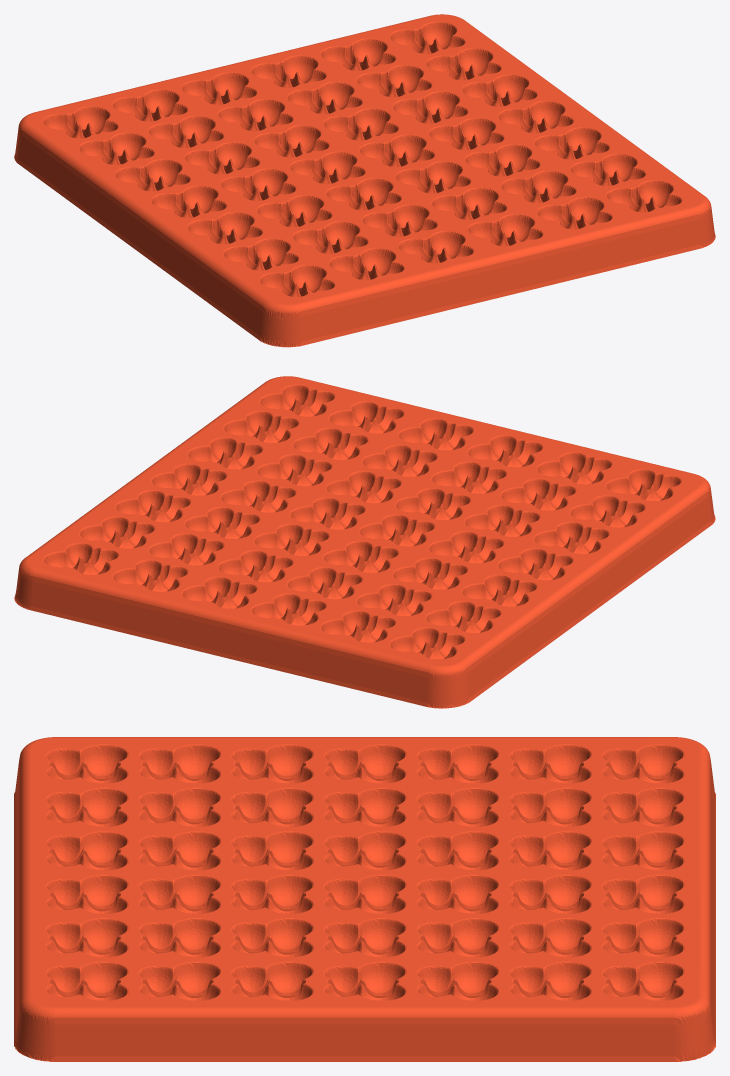
Rendered from mold.glb.
The picture shows the model from 3 angles, top to bottom: view 1: azimuth 30°, elevation 25°; view 2: azimuth 150°, elevation 25°; view 3: azimuth 270°, elevation 25°; orthographic projection. The views are drawn at different scales.
Visible parts, largest first — view 1: geometry_0; view 2: geometry_0; view 3: geometry_0.
Boxes of the visible parts, <box> form: geometry_0: <box>14,14,715,347</box>; geometry_0: <box>14,376,715,708</box>; geometry_0: <box>14,737,715,1061</box>.
Size of the model in its own units: 0.1437 by 0.0113 by 0.1505.
